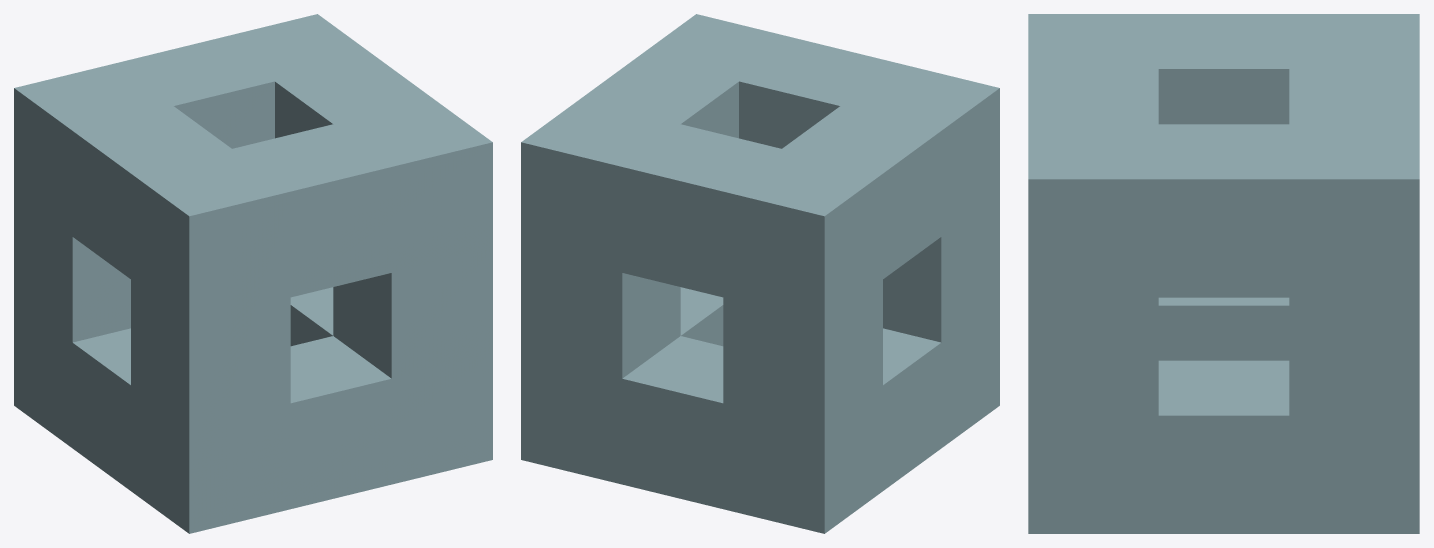
3 views of the same model, side by side, from view 1: azimuth 30°, elevation 25°; view 2: azimuth 150°, elevation 25°; view 3: azimuth 270°, elevation 25° (orthographic). The views are drawn at different scales.
Visible parts, largest first — view 1: 0; view 2: 0; view 3: 0.
Part boxes in pixels (x1=…): 0: x1=14, y1=14, x2=492, y2=533; 0: x1=521, y1=14, x2=999, y2=533; 0: x1=1028, y1=14, x2=1419, y2=533.
Size of the model in its own units: 3 by 3 by 3.
Materials: 1 (1 with a texture image).
